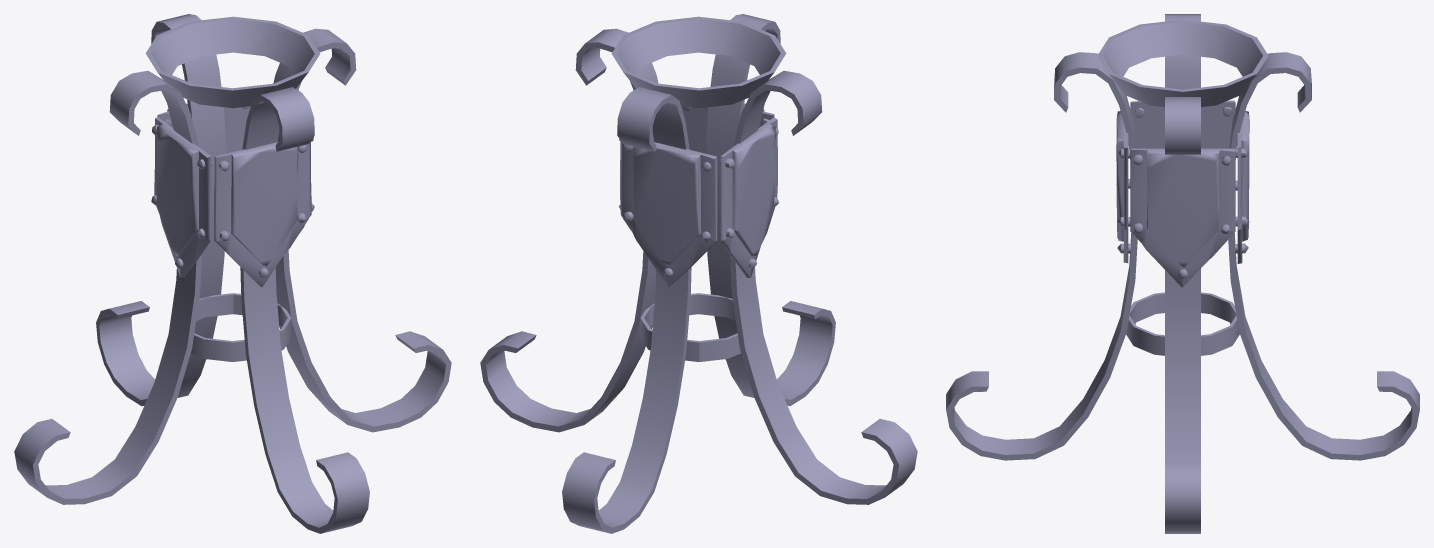
Rendered from Brazier_iron_stand_01.fbx.
The picture shows the model from 3 angles, left to right: view 1: azimuth 30°, elevation 25°; view 2: azimuth 150°, elevation 25°; view 3: azimuth 270°, elevation 25°; orthographic projection. The views are drawn at different scales.
Visible parts, largest first — view 1: Brazier_iron_stand_01_LOD0; view 2: Brazier_iron_stand_01_LOD0; view 3: Brazier_iron_stand_01_LOD0.
Part boxes in pixels (box(x1,y1,x2,y2)): Brazier_iron_stand_01_LOD0: box(14, 14, 451, 533); Brazier_iron_stand_01_LOD0: box(480, 14, 917, 533); Brazier_iron_stand_01_LOD0: box(946, 14, 1419, 533).
Size of what is drawn, in the model's own units: 156 by 145 by 156.
